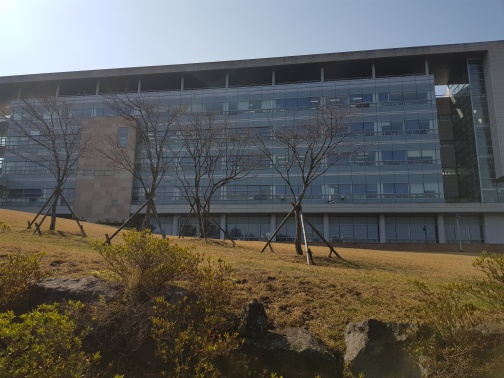Engineering College Building 4: (7, 66, 503, 222), (118, 70, 318, 231), (323, 61, 497, 242)
